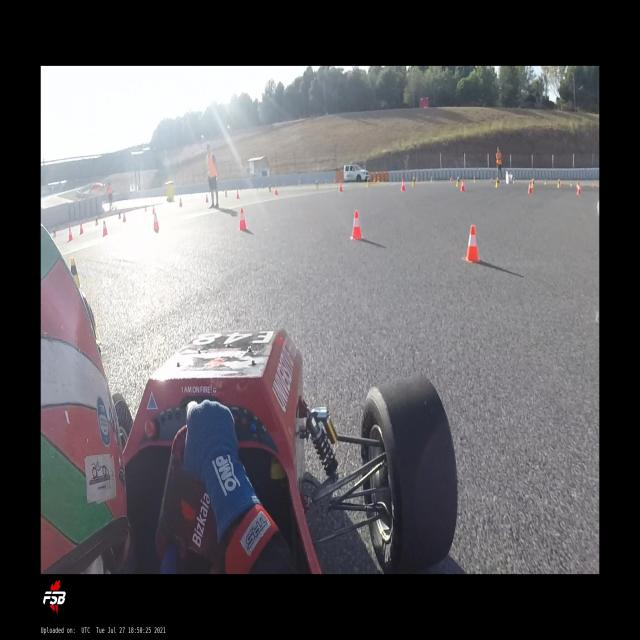orange_cone: (463, 225, 480, 263), (350, 210, 363, 240), (238, 208, 248, 232), (153, 211, 160, 231), (102, 220, 109, 236), (68, 227, 74, 241), (460, 179, 466, 192), (527, 182, 533, 195), (576, 183, 582, 195), (338, 180, 344, 192), (401, 180, 406, 192), (274, 185, 279, 196), (236, 189, 241, 200), (80, 223, 84, 234), (179, 197, 183, 208), (122, 212, 126, 222), (206, 193, 210, 203), (152, 206, 156, 214), (449, 176, 453, 183), (490, 176, 493, 184), (560, 180, 562, 185)
yellow_cone: (70, 257, 82, 289), (494, 178, 500, 188), (315, 180, 320, 190), (53, 228, 57, 238), (456, 177, 460, 187), (366, 177, 370, 187), (557, 179, 561, 188), (95, 217, 99, 226), (531, 180, 535, 188), (376, 176, 380, 184), (412, 178, 416, 186), (472, 176, 476, 183), (269, 184, 272, 193), (225, 189, 228, 197), (118, 212, 121, 220), (144, 205, 147, 212), (544, 179, 547, 185), (430, 177, 433, 183), (576, 182, 579, 188), (570, 181, 572, 187)
